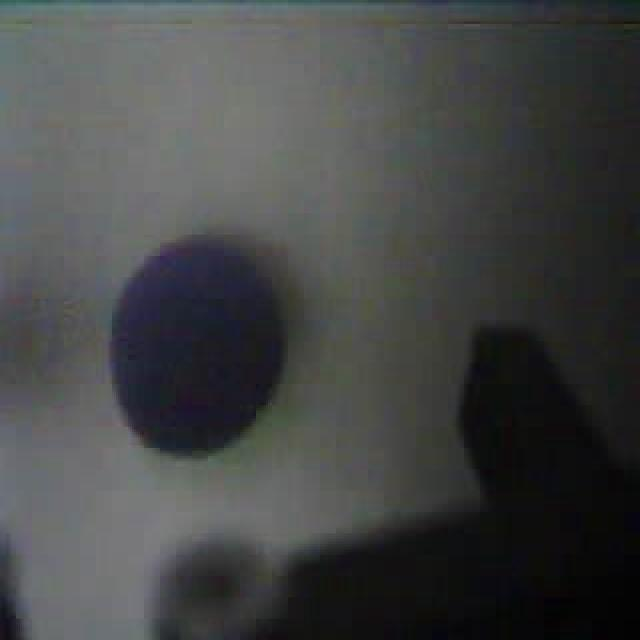blue_ball: (106, 229, 290, 462)
